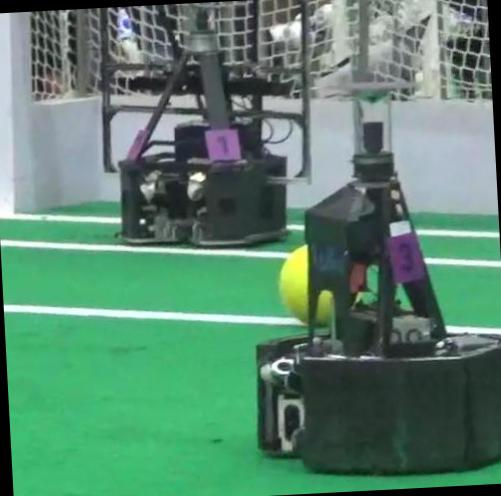ball: (278, 245, 307, 320)
goal: (0, 14, 13, 212)
robot: (256, 88, 501, 471), (100, 0, 310, 245)
